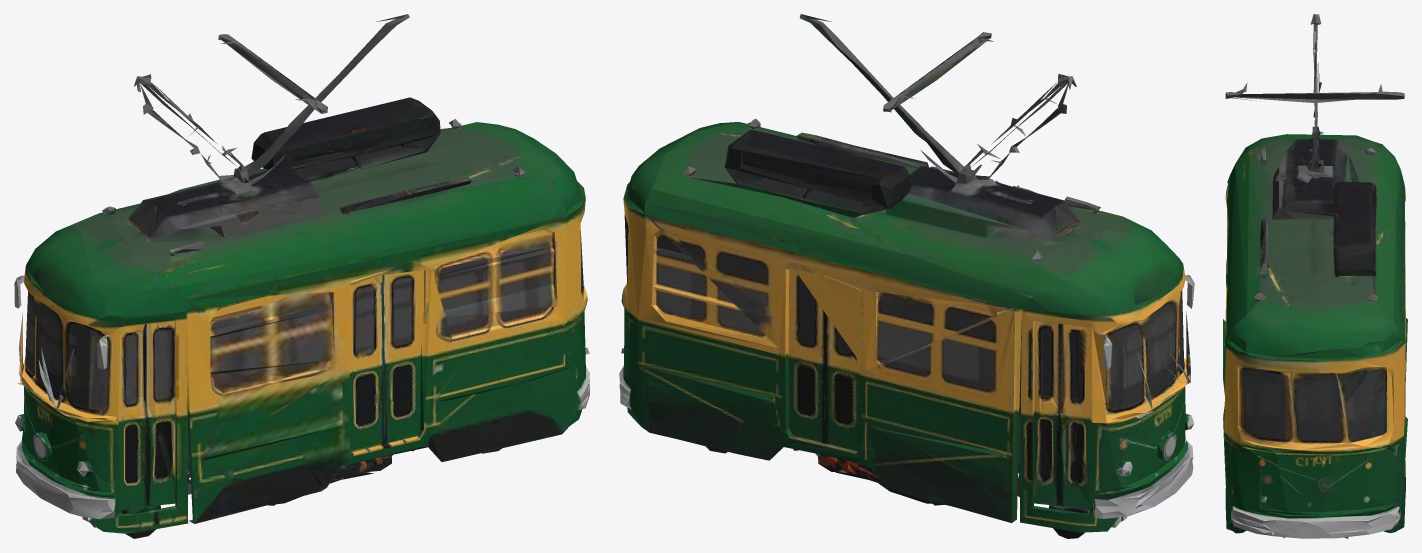
File: tram.glb
3 renders of one model, left to right at view 1: azimuth 30°, elevation 25°; view 2: azimuth 150°, elevation 25°; view 3: azimuth 270°, elevation 25°, orthographic. The views are drawn at different scales.
Size of the model in its own units: 1.9 by 1.49 by 0.6579.
1 material, 1 textured.
